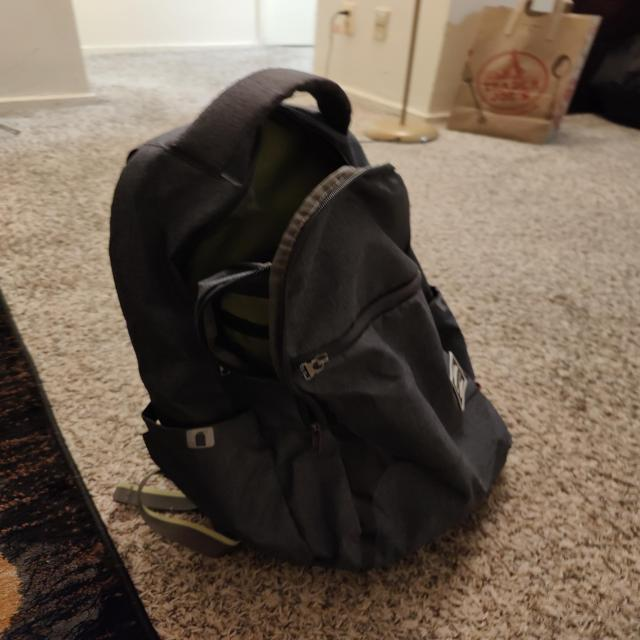bag: (114, 64, 534, 562)
